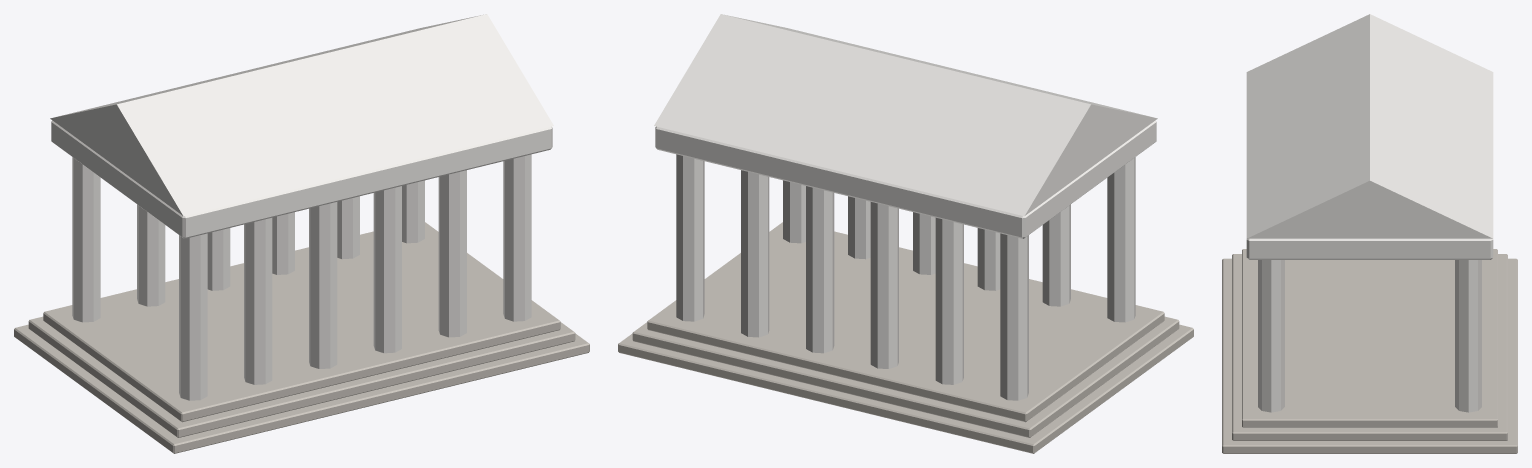
The model's file is GreekTemple.fbx.
3 renders of one model, left to right at view 1: azimuth 30°, elevation 25°; view 2: azimuth 150°, elevation 25°; view 3: azimuth 270°, elevation 25°, orthographic. The views are drawn at different scales.
Parts seen in each view (by area): view 1: GreekTemple; view 2: GreekTemple; view 3: GreekTemple.
Part boxes in pixels (x1,y1,x2,y2): GreekTemple: (14, 14, 589, 453); GreekTemple: (618, 14, 1193, 453); GreekTemple: (1222, 14, 1517, 453).
Size of the model in its own units: 18 by 11.8 by 12.
Materials: 1 (1 with a texture image).
